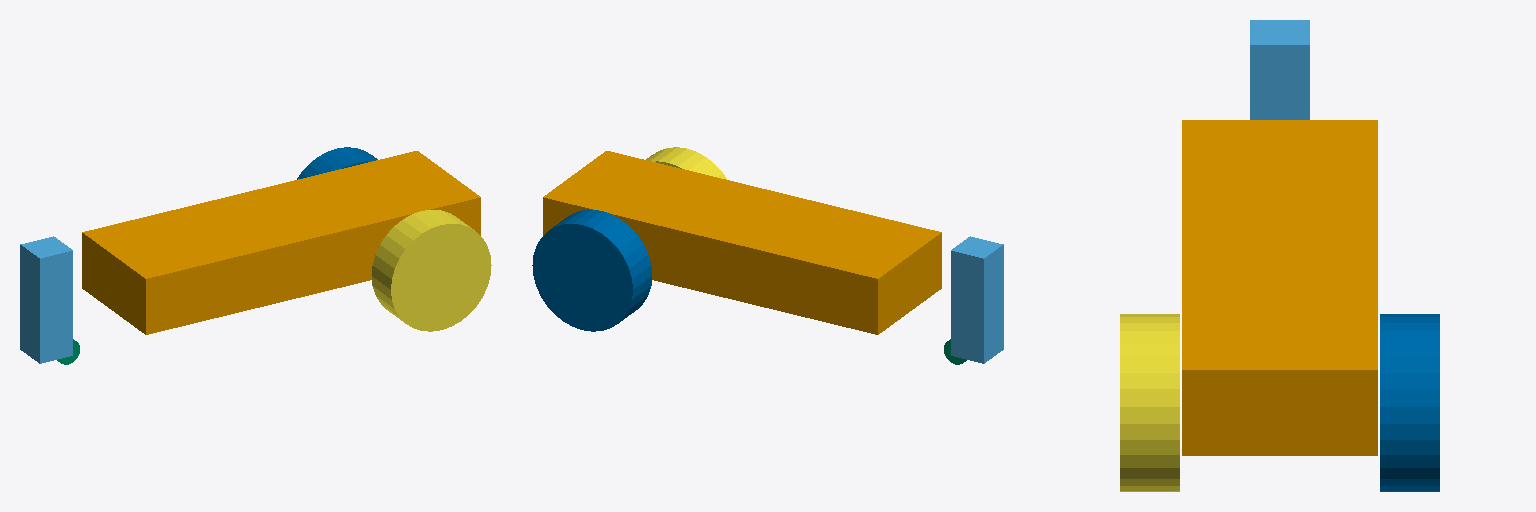
URDF robot description (differentialRobot):
<?xml version="1.0" encoding="utf-8"?>
<!-- This URDF was automatically created by SolidWorks to URDF Exporter! Originally created by [author] ([email redacted]) 
     Commit Version: 1.5.1-0-g916b5db  Build Version: 1.5.7152.31018
     For more information, please see http://wiki.ros.org/sw_urdf_exporter -->
<robot
  name="differentialRobot">
  <link
    name="base_link">
    <inertial>
      <origin
        xyz="0 0 0"
        rpy="0 0 0" />
      <mass
        value="71.854" />
      <inertia
        ixx="1.657"
        ixy="-5.551E-16"
        ixz="0.021573"
        iyy="5.8166"
        iyz="1.5029E-16"
        izz="7.1645" />
    </inertial>
    <visual>
      <geometry>
        <!--<mesh
          filename="package://robot_description/meshes/base_link.STL" />-->
          <box size="1.0 0.33 0.16"/>
      </geometry>
      <!--<material
        name="">
        <color
          rgba="0.79216 0.81961 0.93333 1" />
      </material>-->
    </visual>
    <collision>
      <geometry>
        <!--<mesh
          filename="package://robot_description/meshes/base_link.STL" />-->
          <box size="1.0 0.33 0.16"/>
      </geometry>
    </collision>
  </link>
 <!-- <link
    name="base_c_link">
    <inertial>
      <origin
        xyz="5.5511E-17 0.002282 4.7425E-17"
        rpy="0 0 0" />
      <mass
        value="0.53523" />
      <inertia
        ixx="0.00052562"
        ixy="4.0805E-21"
        ixz="3.7312E-19"
        iyy="0.0012519"
        iyz="-9.5907E-21"
        izz="0.000729" />
    </inertial>
    <visual>
      <origin
        xyz="0 0 0"
        rpy="0 0 0" />
      <geometry>
        <mesh
          filename="package://robot_description/meshes/base_c_link.STL" />
      </geometry>
      <material
        name="">
        <color
          rgba="0.64706 0.61961 0.58431 1" />
      </material>
    </visual>
    <collision>
      <origin
        xyz="0 0 0"
        rpy="0 0 0" />
      <geometry>
        <mesh
          filename="package://robot_description/meshes/base_c_link.STL" />
      </geometry>
    </collision>
  </link>
  <joint
    name="base_c_joint"
    type="fixed">
    <origin
      xyz="-0.36 0 0.010238"
      rpy="1.5708 0 0" />
    <parent
      link="base_link" />
    <child
      link="base_c_link" />
    <axis
      xyz="0 0 0" />
  </joint>
  <link
    name="fork_c_link">
    <inertial>
      <origin
        xyz="-0.018778 -0.039352 7.4319E-09"
        rpy="0 0 0" />
      <mass
        value="0.34679" />
      <inertia
        ixx="0.00062753"
        ixy="-0.00012722"
        ixz="-1.2248E-10"
        iyy="0.00044283"
        iyz="-4.7433E-11"
        izz="0.00063004" />
    </inertial>
    <visual>
      <origin
        xyz="0 0 0"
        rpy="0 0 0" />
      <geometry>
        <mesh
          filename="package://robot_description/meshes/fork_c_link.STL" />
      </geometry>
      <material
        name="">
        <color
          rgba="0.64706 0.61961 0.58431 1" />
      </material>
    </visual>
    <collision>
      <origin
        xyz="0 0 0"
        rpy="0 0 0" />
      <geometry>
        <mesh
          filename="package://robot_description/meshes/fork_c_link.STL" />
      </geometry>
    </collision>
  </link>
  <joint
    name="fork_c_joint"
    type="continuous">
    <origin
      xyz="0 0 0"
      rpy="3.1416 -0.52774 3.1416" />
    <parent
      link="base_c_link" />
    <child
      link="fork_c_link" />
    <axis
      xyz="0 1 0" />
  </joint>
  <link
    name="pin_c_link">
    <inertial>
      <origin
        xyz="1.7486E-15 5.5511E-17 1.3878E-17"
        rpy="0 0 0" />
      <mass
        value="0.09369" />
      <inertia
        ixx="2.8522E-06"
        ixy="-1.9588E-20"
        ixz="-1.319E-19"
        iyy="3.6098E-05"
        iyz="-6.088E-22"
        izz="3.6098E-05" />
    </inertial>
    <visual>
      <origin
        xyz="0 0 0"
        rpy="0 0 0" />
      <geometry>
        <mesh
          filename="package://robot_description/meshes/pin_c_link.STL" />
      </geometry>
      <material
        name="">
        <color
          rgba="0.64706 0.61961 0.58431 1" />
      </material>
    </visual>
    <collision>
      <origin
        xyz="0 0 0"
        rpy="0 0 0" />
      <geometry>
        <mesh
          filename="package://robot_description/meshes/pin_c_link.STL" />
      </geometry>
    </collision>
  </link>
  <joint
    name="pin_c_joint"
    type="fixed">
    <origin
      xyz="-0.042 -0.11024 0"
      rpy="1.5646 1.5708 0" />
    <parent
      link="fork_c_link" />
    <child
      link="pin_c_link" />
    <axis
      xyz="0 0 0" />
  </joint>
  <link
    name="bearing_c_link">
    <inertial>
      <origin
        xyz="2.0262E-15 6.9389E-17 -1.6653E-16"
        rpy="0 0 0" />
      <mass
        value="0.024819" />
      <inertia
        ixx="1.8031E-06"
        ixy="2.1178E-20"
        ixz="1.6782E-20"
        iyy="8.266E-06"
        iyz="-7.2222E-35"
        izz="8.266E-06" />
    </inertial>
    <visual>
      <origin
        xyz="0 0 0"
        rpy="0 0 0" />
      <geometry>
        <mesh
          filename="package://robot_description/meshes/bearing_c_link.STL" />
      </geometry>
      <material
        name="">
        <color
          rgba="0.64706 0.61961 0.58431 1" />
      </material>
    </visual>
    <collision>
      <origin
        xyz="0 0 0"
        rpy="0 0 0" />
      <geometry>
        <mesh
          filename="package://robot_description/meshes/bearing_c_link.STL" />
      </geometry>
    </collision>
  </link>
  <joint
    name="bearing_c_joint"
    type="continuous">
    <origin
      xyz="0 0 0"
      rpy="-1.5646 0 0" />
    <parent
      link="pin_c_link" />
    <child
      link="bearing_c_link" />
    <axis
      xyz="1 0 0" />
  </joint>
  <link
    name="wheel_c_link">
    <inertial>
      <origin
        xyz="2.2204E-16 4.1633E-17 1.9706E-15"
        rpy="0 0 0" />
      <mass
        value="0.56957" />
      <inertia
        ixx="0.00097832"
        ixy="-2.8766E-20"
        ixz="-4.3368E-19"
        iyy="0.00097832"
        iyz="-2.981E-18"
        izz="0.0017885" />
    </inertial>
    <visual>
      <origin
        xyz="0 0 0"
        rpy="0 0 0" />
      <geometry>
        <mesh
          filename="package://robot_description/meshes/wheel_c_link.STL" />
      </geometry>
      <material
        name="">
        <color
          rgba="1 1 1 1" />
      </material>
    </visual>
    <collision>
      <origin
        xyz="0 0 0"
        rpy="0 0 0" />
      <geometry>
        <mesh
          filename="package://robot_description/meshes/wheel_c_link.STL" />
      </geometry>
    </collision>
  </link>
  <joint
    name="wheel_c_joint"
    type="continuous">
    <origin
      xyz="0 0 0"
      rpy="3.1416 1.5708 -3.1416" />
    <parent
      link="bearing_c_link" />
    <child
      link="wheel_c_link" />
    <axis
      xyz="0 0 1" />
  </joint>-->

<link name="front_caster">
    <visual>
      <geometry>
        <box size="0.1 0.1 0.3"/>
      </geometry>
      <material name="silver"/>
    </visual>
    <collision>
      <geometry>
        <box size="0.1 0.1 0.3"/>
      </geometry>
    </collision>
    <inertial>
      <mass value="0.1"/>
      <inertia ixx="0.00083" iyy="0.00083" izz="0.000167" ixy="0" ixz="0" iyz="0"/>
    </inertial>
  </link>

  <joint name="front_caster_joint" type="continuous">
    <axis xyz="0 0 1"/>
    <parent link="base_link"/>
    <child link="front_caster"/>
    <origin rpy="0 0 0" xyz="-0.7 0 0"/>
  </joint>

  <link name="front_wheel">
    <visual>
      <geometry>
        <cylinder length="0.05" radius="0.035"/>
      </geometry>
      <material name="black"/>
    </visual>
    <collision>
      <geometry>
        <cylinder length="0.05" radius="0.035"/>
      </geometry>
    </collision>
    <inertial>
      <mass value="0.1"/>
      <inertia ixx="5.1458e-5" iyy="5.1458e-5" izz="6.125e-5" ixy="0" ixz="0" iyz="0"/>
    </inertial>
  </link>

  <joint name="front_wheel_joint" type="continuous">
    <axis xyz="0 0 1"/>
    <parent link="front_caster"/>
    <child link="front_wheel"/>
    <origin rpy="-1.5708 0 0" xyz="0.05 0 -.15"/>
  </joint>


    <!--#############################################
        ################ RIGHT WHEEL ################
        #############################################
    -->
  <link
    name="right_wheel_link">
    <inertial>
      <origin
        xyz="0 0 0"
        rpy="0 0 0" />
      <mass
        value="1.8206" />
      <inertia
        ixx="0.0042591"
        ixy="5.421E-20"
        ixz="8.4894E-20"
        iyy="0.0042591"
        iyz="-1.0925E-20"
        izz="0.00656" />
    </inertial>
    <visual>
      <geometry>
        <cylinder length="0.1" radius="0.15"/>
      </geometry>
    </visual>
    <collision>
      <geometry>
        <cylinder length="0.1" radius="0.15"/>
      </geometry>
    </collision>
  </link>

  <joint
    name="right_wheel_joint"
    type="continuous">
    <!-- Sistema di riferimento base link-->
    <origin
      xyz="0.32 -0.22 -0.064926"  
      rpy="-1.5708 0 0" />
    <parent
      link="base_link" />
    <child
      link="right_wheel_link" />
    <axis
      xyz="0 0 1" />
  </joint>

  



    <!--#############################################
        ################ LEFT WHEEL ################
        #############################################
    -->
  <link
    name="left_wheel_link">
     
  <inertial>
      <origin
        xyz="0 0 -0.054877"
        rpy="0 0 0" />
      <mass
        value="1.8206" />
      <inertia
        ixx="0.0042591"
        ixy="3.2526E-19"
        ixz="8.9001E-20"
        iyy="0.0042591"
        iyz="2.098E-20"
        izz="0.00656" />
    </inertial>
    <visual>
      <origin
        xyz="0 0 0"
        rpy="0 0 0" />
      <geometry>
        <cylinder length="0.1" radius="0.15"/>
      </geometry>
      
    </visual>
    <collision>
      <origin
        xyz="0 0 0"
        rpy="0 0 0" />
      <geometry>
        <cylinder length="0.1" radius="0.15"/>
      </geometry>
    </collision>
  </link>
  <joint
    name="left_wheel_joint"
    type="continuous">
    <origin
      xyz="0.32 0.22 -0.064926"
      rpy="1.5708 0 3.1416" />
    <parent
      link="base_link" />
    <child
      link="left_wheel_link" />
    <axis
      xyz="0 0 1" />
  </joint>
 <!-- <link
    name="laser_sick_link">
    <inertial>
      <origin
        xyz="0 0 0"
        rpy="0 0 0" />
      <mass
        value="0" />
      <inertia
        ixx="0"
        ixy="0"
        ixz="0"
        iyy="0"
        iyz="0"
        izz="0" />
    </inertial>
    <visual>
      <origin
        xyz="0 0 0"
        rpy="0 0 0" />
      <geometry>
        <mesh
          filename="package://robot_description/meshes/laser_sick_link.STL" />
      </geometry>
      <material
        name="">
        <color
          rgba="1 1 1 1" />
      </material>
    </visual>
    <collision>
      <origin
        xyz="0 0 0"
        rpy="0 0 0" />
      <geometry>
        <mesh
          filename="package://robot_description/meshes/laser_sick_link.STL" />
      </geometry>
    </collision>
  </link>
  <joint
    name="laser_sick_joint"
    type="fixed">
    <origin
      xyz="0.501 0 0.0125"
      rpy="0 0 1.5708" />
    <parent
      link="base_link" />
    <child
      link="laser_sick_link" />
    <axis
      xyz="0 0 0" />
  </joint>-->


   <gazebo>
    <plugin name="differential_drive_controller" filename="libgazebo_ros_diff_drive.so">
      <leftJoint>left_wheel_joint</leftJoint>
      <rightJoint>right_wheel_joint</rightJoint>
      <robotBaseFrame>base_link</robotBaseFrame>
      <wheelSeparation>0.33</wheelSeparation>
      <wheelDiameter>0.15</wheelDiameter>
      <publishWheelJointState>true</publishWheelJointState>
    </plugin>
  </gazebo>

  <!--<gazebo>
    <plugin name="joint_state_publisher" filename="libgazebo_ros_joint_state_publisher.so">
      <jointName>fork_c_joint, wheel_c_joint, bearing_c_joint</jointName>
    </plugin>
  </gazebo>-->

  <!--<gazebo reference="laser_sick_link">
    <sensor type="ray" name="hokuyo">
      <pose>0 0 0 0 0 0</pose>
      <visualize>false</visualize>
      <update_rate>40</update_rate>
      <ray>
        <scan>
          <horizontal>
            <samples>720</samples>
            <resolution>1</resolution>
            <min_angle>-1.570796</min_angle>
            <max_angle>1.570796</max_angle>
          </horizontal>
        </scan>
        <range>
          <min>0.10</min>
          <max>30.0</max>
          <resolution>0.01</resolution>
        </range>
      </ray>
      <plugin name="gpu_laser" filename="libgazebo_ros_laser.so">
        <topicName>/scan</topicName>
        <frameName>laser_sick_link</frameName>
      </plugin>
    </sensor>
  </gazebo>-->
</robot>

--- Facts derived from the render (not from the file) ---
The picture shows the robot from 3 angles, left to right: view 1: azimuth 30°, elevation 25°; view 2: azimuth 150°, elevation 25°; view 3: azimuth 270°, elevation 25°; orthographic projection.
Robot: differentialRobot — 5 links, 4 joints (4 continuous); root link base_link; default pose: all joints at 0.
Links seen in each view (by area): view 1: base_link, right_wheel_link, front_caster, left_wheel_link; view 2: base_link, left_wheel_link, front_caster, right_wheel_link; view 3: base_link, right_wheel_link, left_wheel_link, front_caster.
Link boxes in pixels (left/top/right/bottom): base_link: left=82, top=151, right=480, bottom=334; right_wheel_link: left=372, top=210, right=491, bottom=331; front_caster: left=20, top=236, right=72, bottom=363; left_wheel_link: left=297, top=147, right=377, bottom=179; base_link: left=543, top=151, right=941, bottom=334; left_wheel_link: left=532, top=210, right=651, bottom=331; front_caster: left=951, top=236, right=1003, bottom=363; right_wheel_link: left=646, top=147, right=726, bottom=179; base_link: left=1182, top=120, right=1377, bottom=455; right_wheel_link: left=1120, top=314, right=1179, bottom=491; left_wheel_link: left=1380, top=314, right=1439, bottom=491; front_caster: left=1250, top=20, right=1309, bottom=119.
Size in the robot's own frame: 1.25 by 0.54 by 0.3649 metres.
Geometry: primitives only (box / cylinder / sphere), no mesh files.